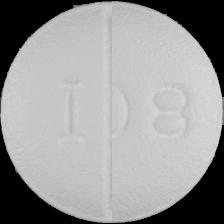31722-208: (0, 0, 224, 224)
